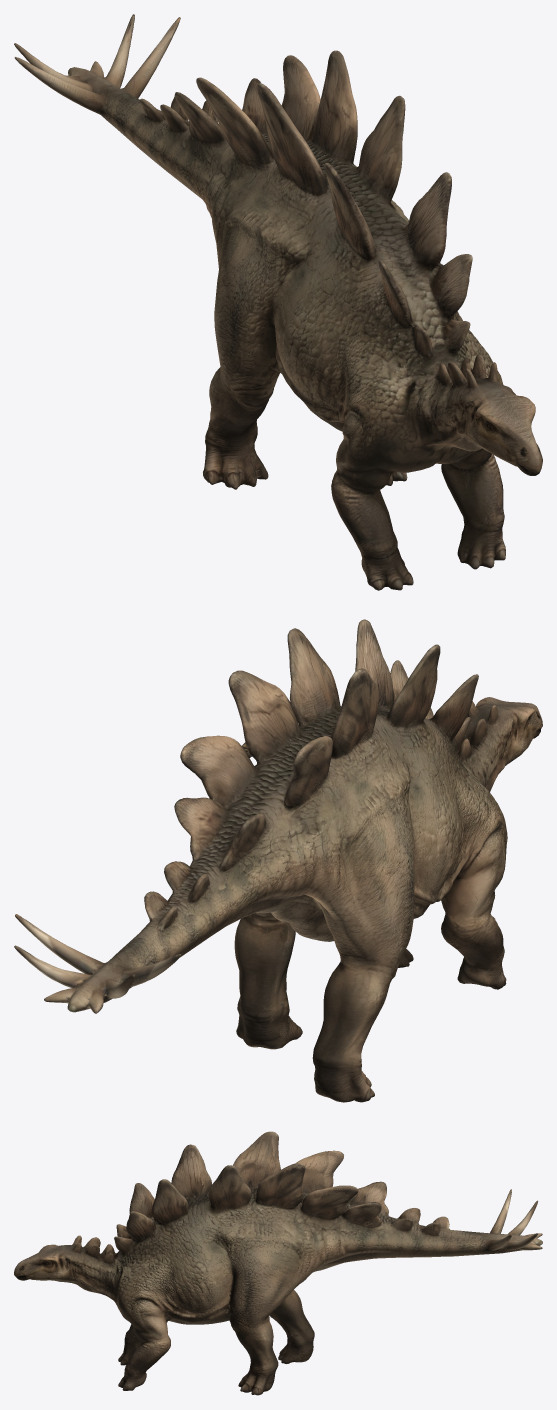
File: stegosaurus.glb
The picture shows the model from 3 angles, top to bottom: view 1: azimuth 30°, elevation 25°; view 2: azimuth 150°, elevation 25°; view 3: azimuth 270°, elevation 25°; orthographic projection. The views are drawn at different scales.
Visible parts, largest first — view 1: Mesh1.0; view 2: Mesh1.0; view 3: Mesh1.0.
Boxes of the visible parts, x1=… form: Mesh1.0: x1=14, y1=14, x2=542, y2=590; Mesh1.0: x1=14, y1=619, x2=542, y2=1102; Mesh1.0: x1=14, y1=1131, x2=542, y2=1395.
Bounding box in the file's own units: 5.52 × 12 × 25.04.
1 material, 1 textured.
